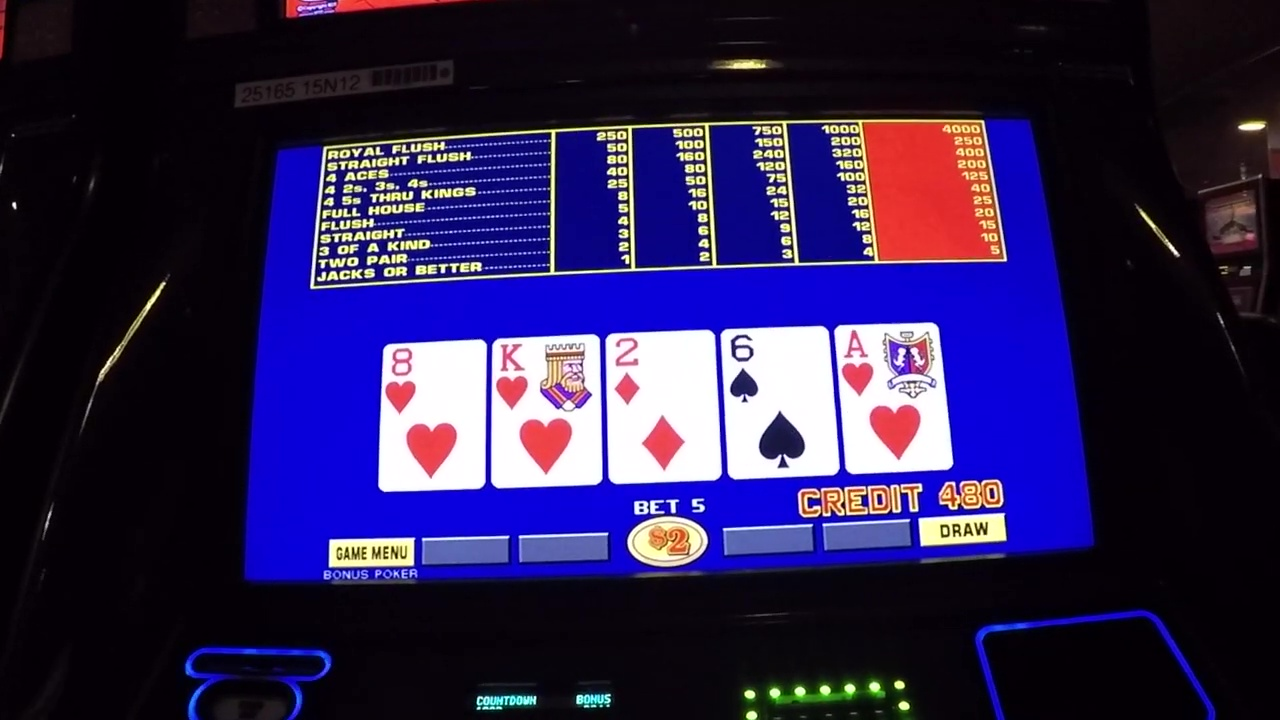D2: (608, 332, 711, 408)
H8: (387, 345, 483, 414)
HA: (843, 327, 940, 400)
HK: (494, 339, 597, 411)
S6: (723, 327, 827, 406)
